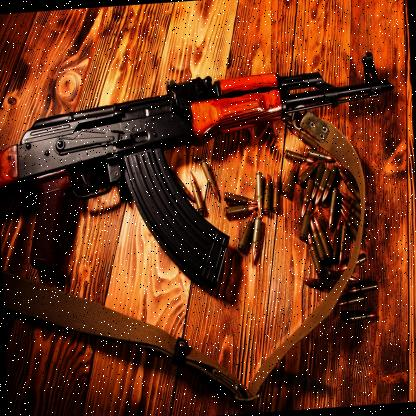rifle: (0, 53, 416, 296)
